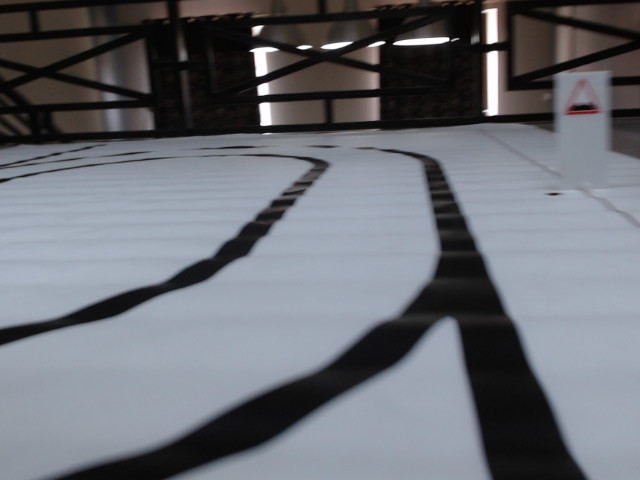Nerov: (562, 78, 606, 118)
